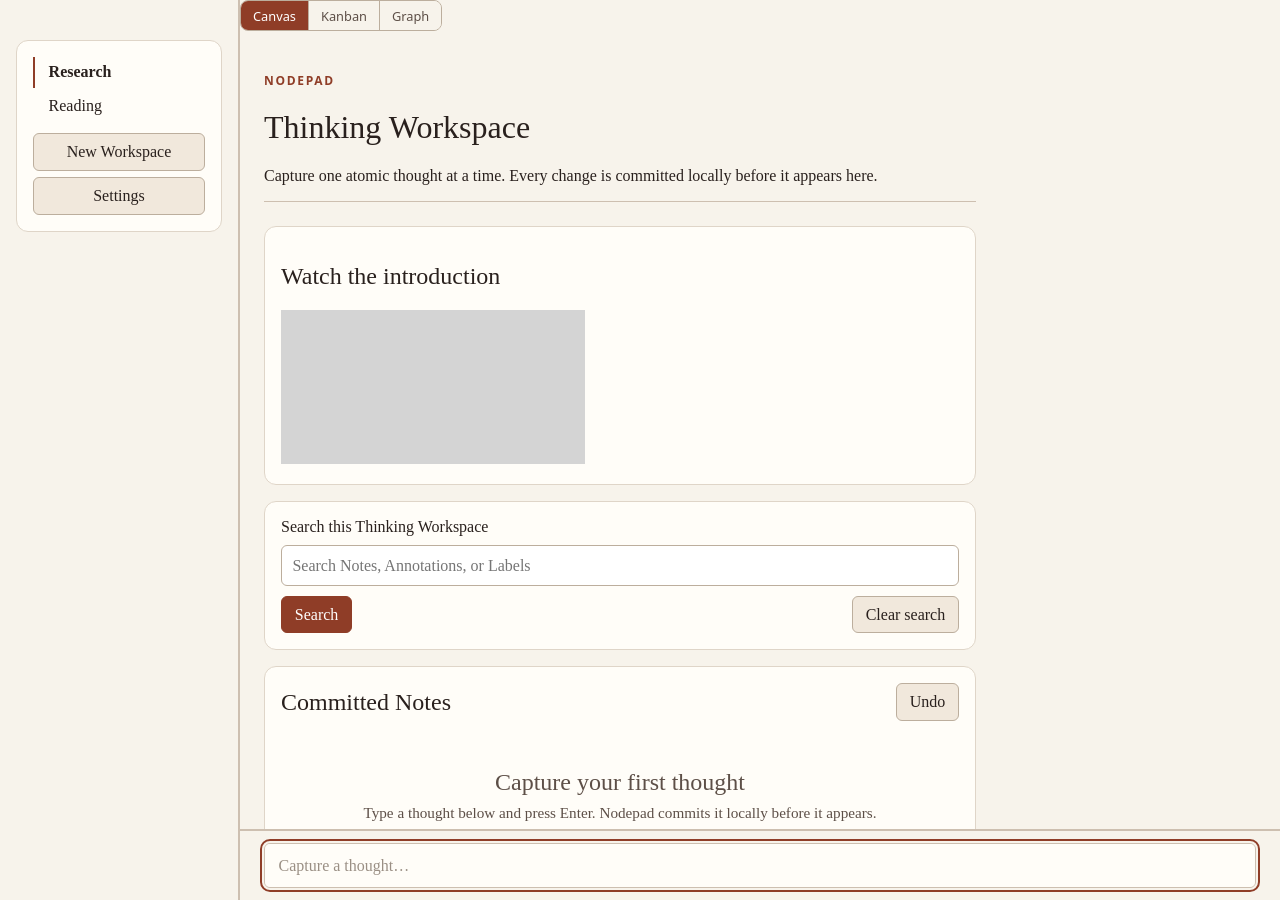
Test case: manual Note controls › reports a failed archive import without adopting a snapshot
This screenshot has width=1280, height=900.
Click the button with aria-label "Workspace settings": [119, 196] box [33, 177, 205, 214]
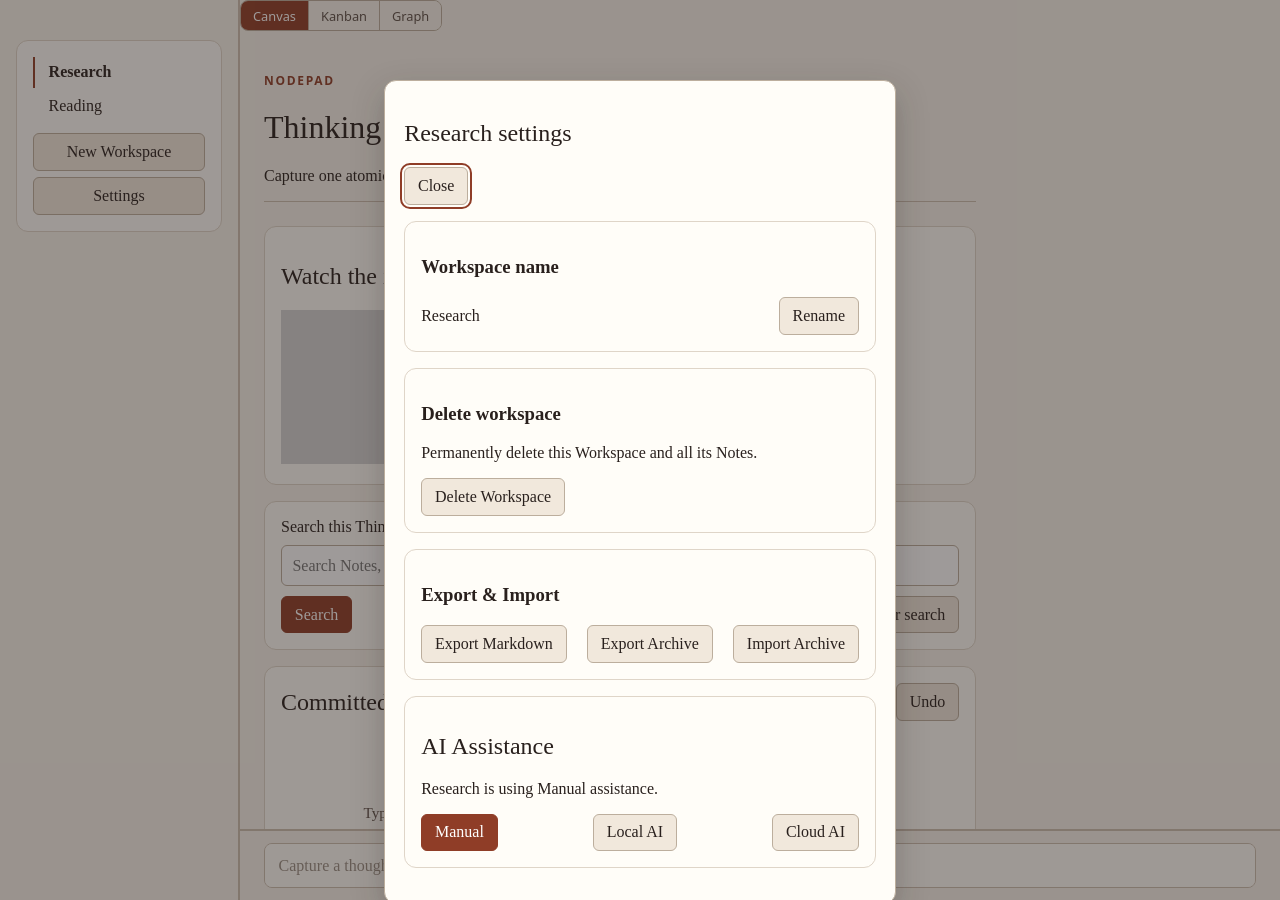
Click the button "Import Archive": [796, 644] box [733, 625, 859, 663]
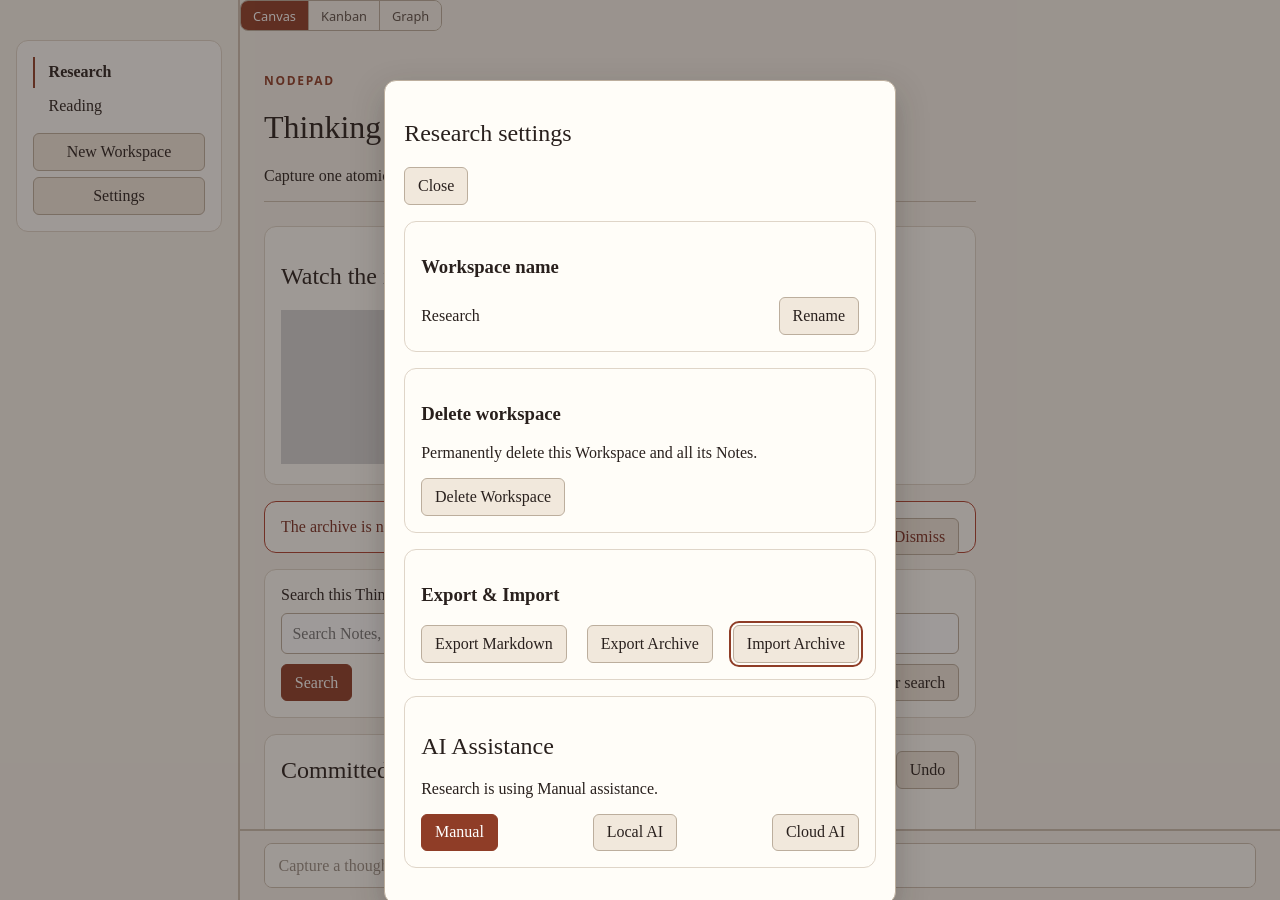
Check: the text "The archive is not valid JSON. Dismiss" is shown, box [264, 501, 976, 553]
